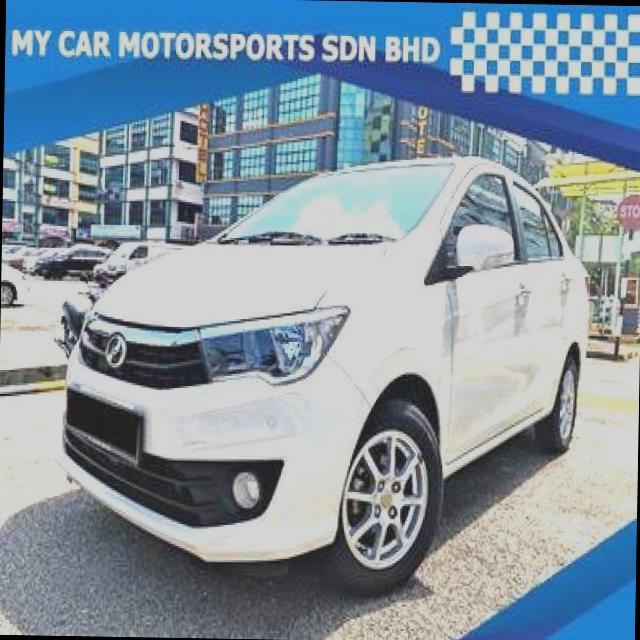PeroduaBezza: (53, 144, 594, 598)
